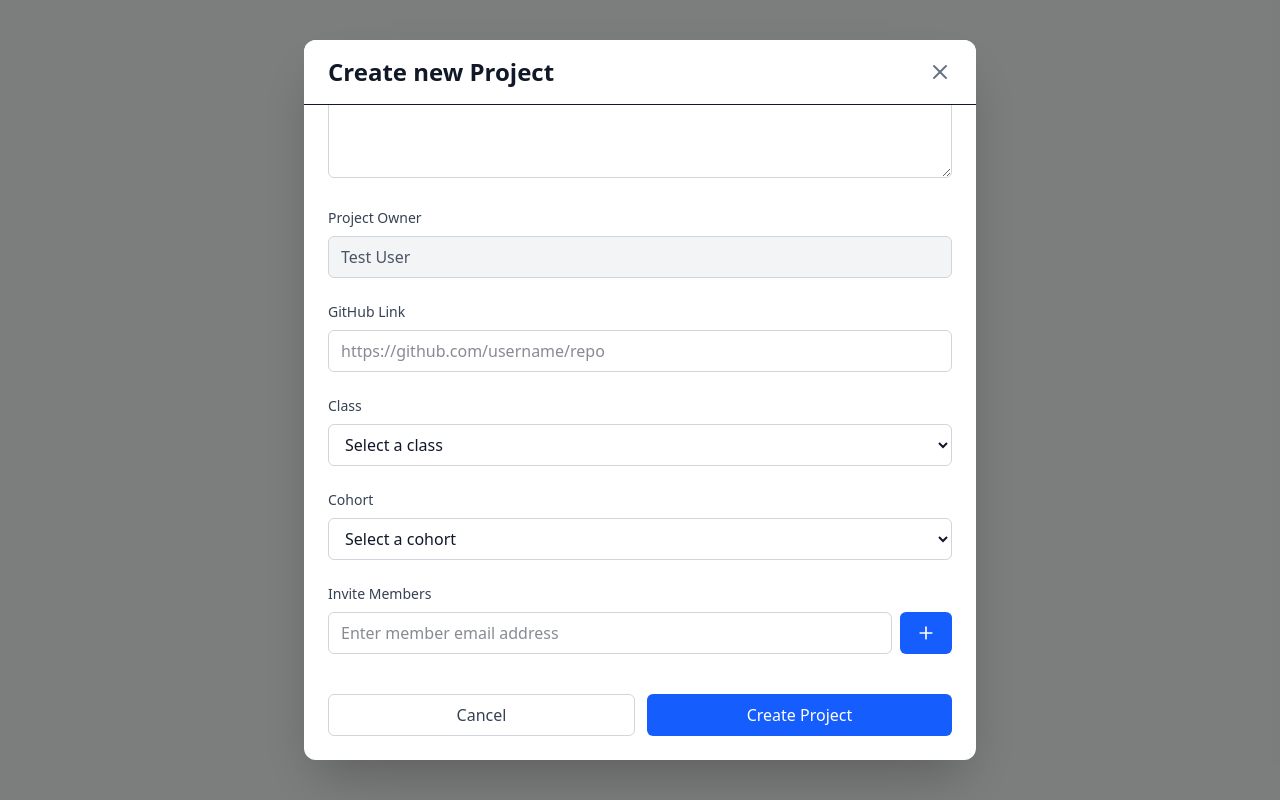
CreateProjectModal › Member Management › adds member on Enter key press
This screenshot has width=1280, height=800.
(page scrolled)
In the field with placeholder "Enter member email address": (610,633) [328,612,892,654], type "enter@example.com"
Then press Enter
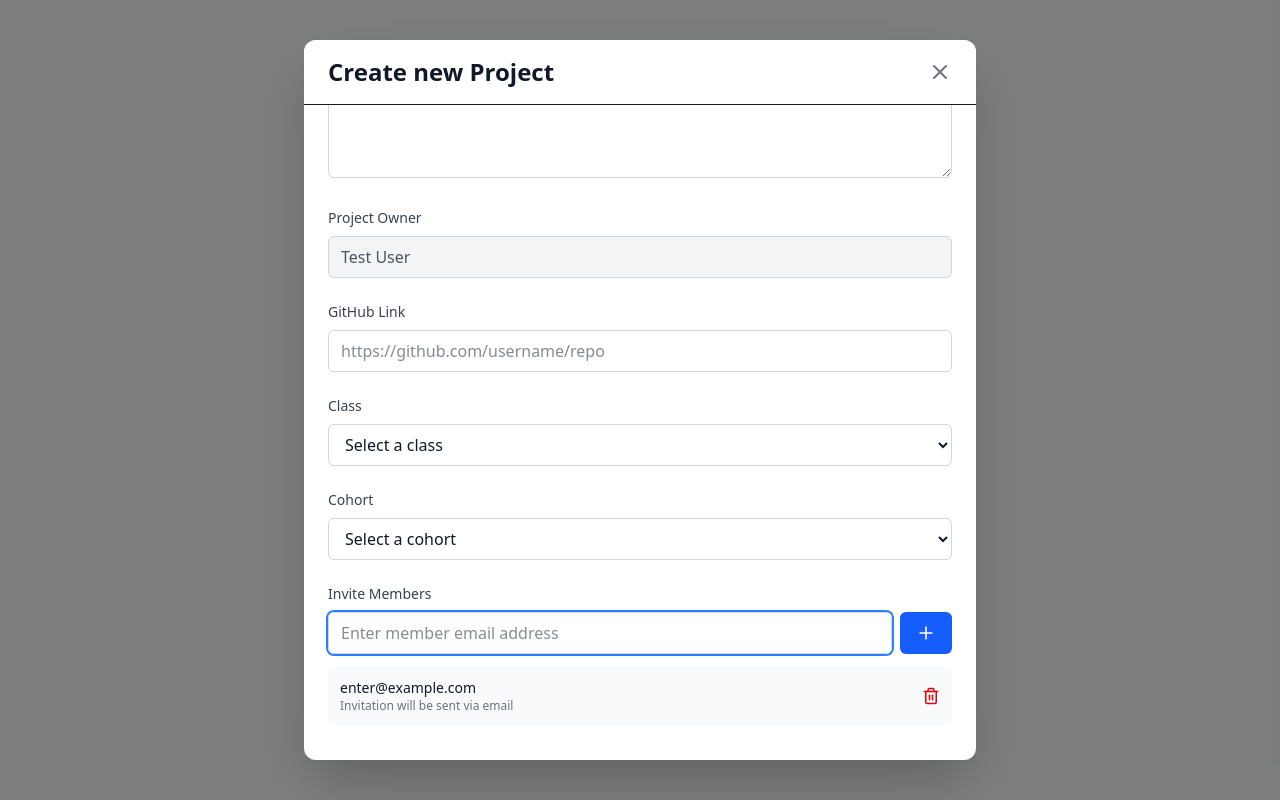
Expected: the text "enter@example.com" is shown, [340,678,476,698]
